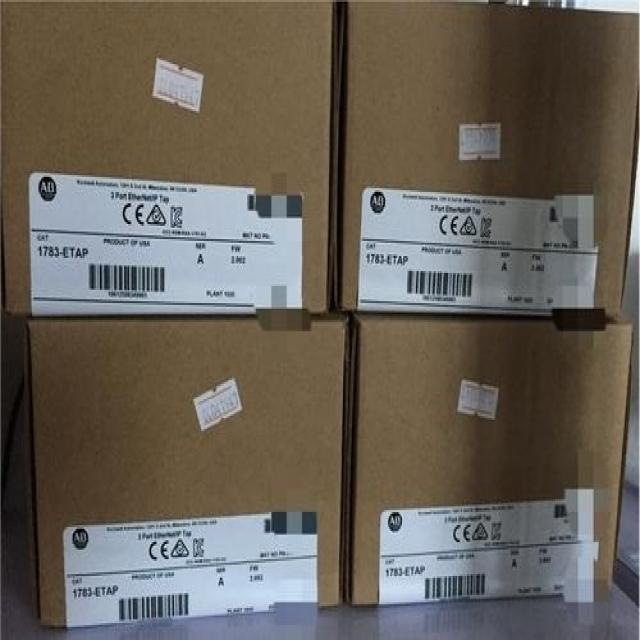box: (1, 1, 344, 312), (27, 312, 350, 623), (341, 2, 639, 318), (346, 314, 636, 606)
